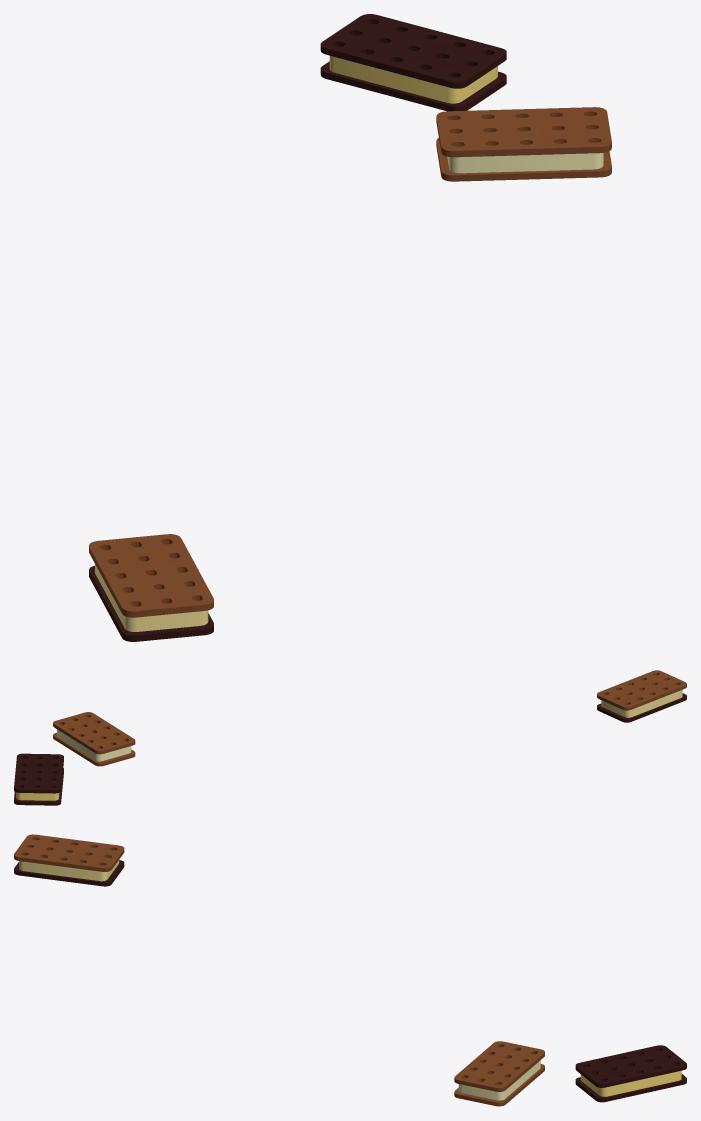
Rendered from Biscuits.fbx.
3 views of the same model, one above another, from view 1: azimuth 30°, elevation 25°; view 2: azimuth 150°, elevation 25°; view 3: azimuth 270°, elevation 25° (orthographic). The views are drawn at different scales.
Parts seen in each view (by area): view 1: Plane.016, Plane.021, Plane.024, Plane.020, Plane.023, Plane.019, Plane.022, Plane.026, Plane.025; view 2: Plane.024, Plane.021, Plane.016, Plane.026, Plane.023, Plane.025, Plane.022, Plane.019, Plane.020; view 3: Plane.024, Plane.016, Plane.021, Plane.020, Plane.026, Plane.023, Plane.025, Plane.019, Plane.022.
Part boxes in pixels (x1,y1,x2,y2): Plane.016: (320, 14, 506, 88); Plane.021: (436, 107, 611, 157); Plane.024: (89, 534, 213, 617); Plane.020: (329, 56, 497, 103); Plane.023: (447, 153, 603, 173); Plane.019: (320, 61, 506, 111); Plane.022: (436, 138, 611, 181); Plane.026: (95, 564, 208, 631); Plane.025: (89, 565, 213, 641); Plane.024: (597, 670, 686, 710); Plane.021: (53, 712, 135, 754); Plane.016: (14, 753, 63, 793); Plane.026: (601, 690, 682, 717); Plane.023: (57, 729, 131, 761); Plane.025: (597, 693, 686, 722); Plane.022: (53, 732, 135, 766); Plane.019: (14, 768, 63, 805); Plane.020: (16, 792, 59, 800); Plane.024: (14, 834, 124, 871); Plane.016: (575, 1045, 686, 1087); Plane.021: (454, 1041, 544, 1091); Plane.020: (580, 1070, 681, 1096); Plane.026: (19, 860, 119, 881); Plane.023: (458, 1060, 540, 1100); Plane.025: (14, 860, 124, 886); Plane.019: (575, 1074, 686, 1102); Plane.022: (454, 1064, 544, 1106).
Bounding box in the file's own units: 4141 × 138 × 4639.
1 material, 1 textured.
